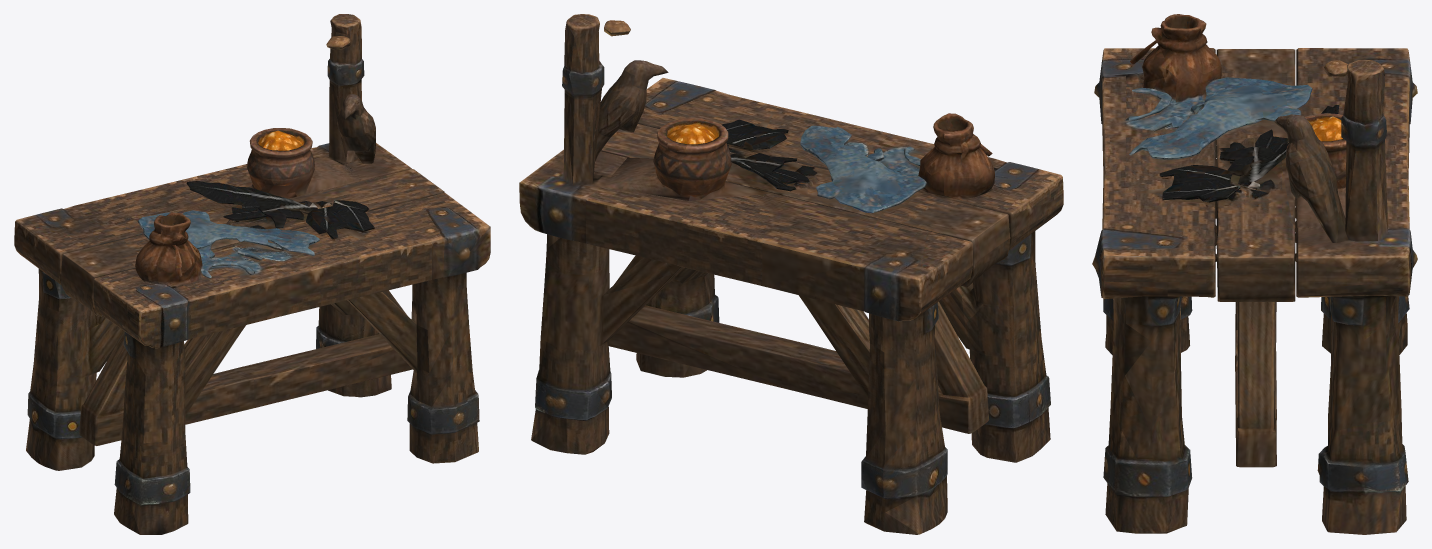
Rendered from RavenTable.fbx.
3 renders of one model, left to right at view 1: azimuth 30°, elevation 25°; view 2: azimuth 150°, elevation 25°; view 3: azimuth 270°, elevation 25°, orthographic. The views are drawn at different scales.
Visible parts, largest first — view 1: Mesh_0; view 2: Mesh_0; view 3: Mesh_0.
Boxes of the visible parts, box(x1,y1,x2,y2) form: Mesh_0: box(14, 14, 490, 534); Mesh_0: box(519, 14, 1063, 534); Mesh_0: box(1092, 14, 1417, 534).
Size of the model in its own units: 191 by 190 by 125.
Materials: 1 (1 with a texture image).
